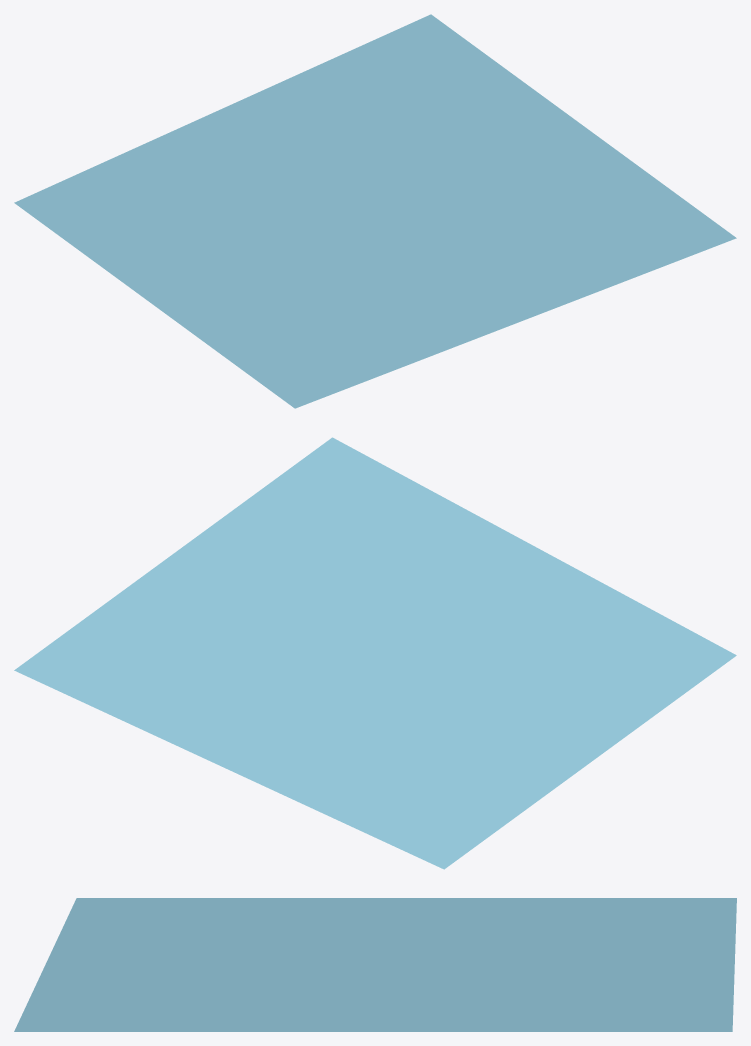
Rendered from ConsoleMatSide.FBX.
The picture shows the model from 3 angles, top to bottom: view 1: azimuth 30°, elevation 25°; view 2: azimuth 150°, elevation 25°; view 3: azimuth 270°, elevation 25°; orthographic projection. The views are drawn at different scales.
Parts seen in each view (by area): view 1: ConsoleMatSide; view 2: ConsoleMatSide; view 3: ConsoleMatSide.
Boxes of the visible parts, <box> form: ConsoleMatSide: <box>14,14,736,408</box>; ConsoleMatSide: <box>14,437,736,869</box>; ConsoleMatSide: <box>14,898,736,1031</box>.
Size of the model in its own units: 0.3616 by 0.0738 by 0.4643.
